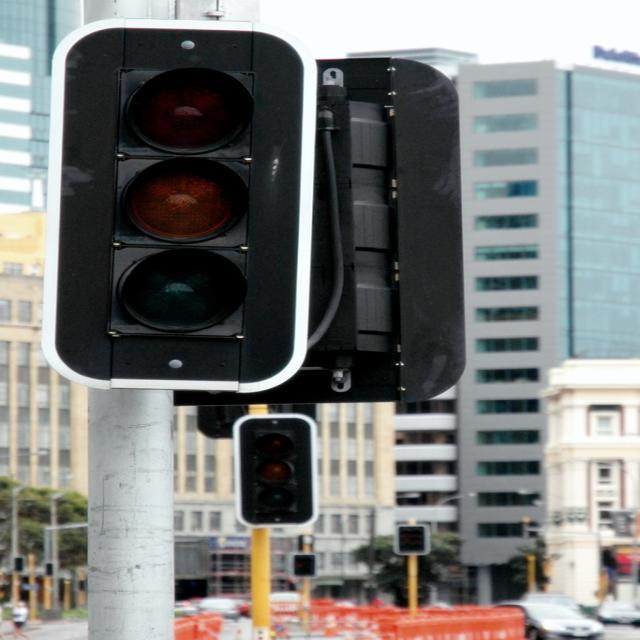traffic light: (68, 24, 298, 388), (226, 418, 314, 537)
